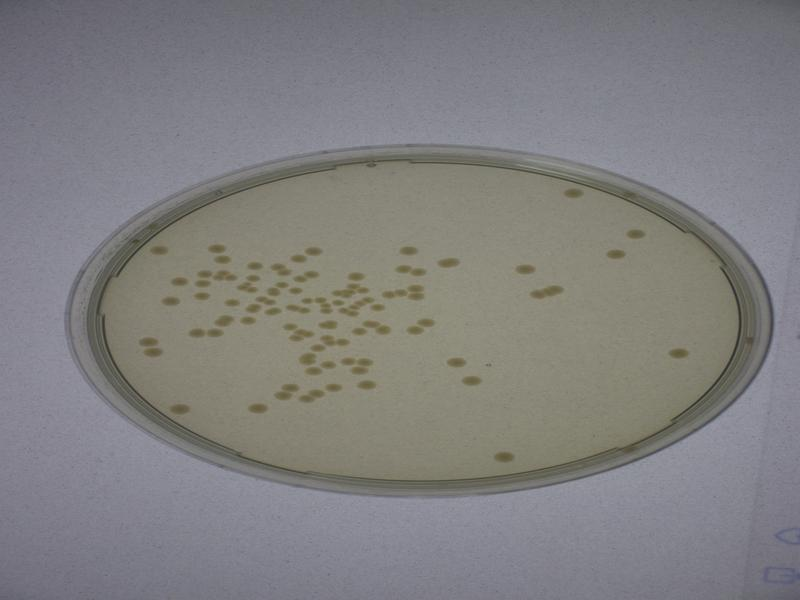colony: (665, 341, 698, 372), (509, 255, 553, 278), (242, 395, 272, 420), (596, 248, 632, 267), (456, 374, 491, 393), (618, 223, 652, 242), (443, 351, 471, 372), (204, 234, 229, 256), (393, 238, 418, 259), (352, 375, 379, 394), (157, 293, 181, 309)
